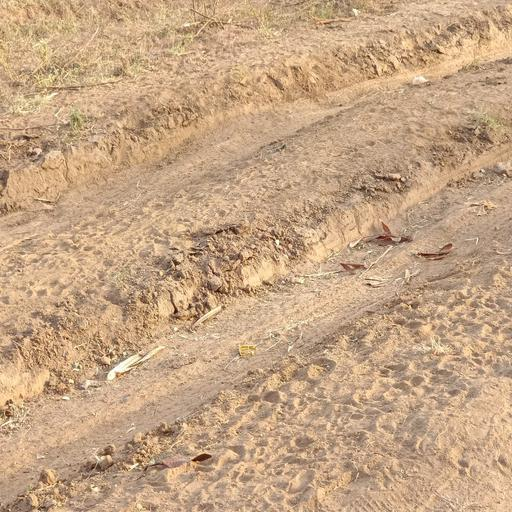vehicle_track: (0, 153, 512, 510), (0, 38, 512, 251)
